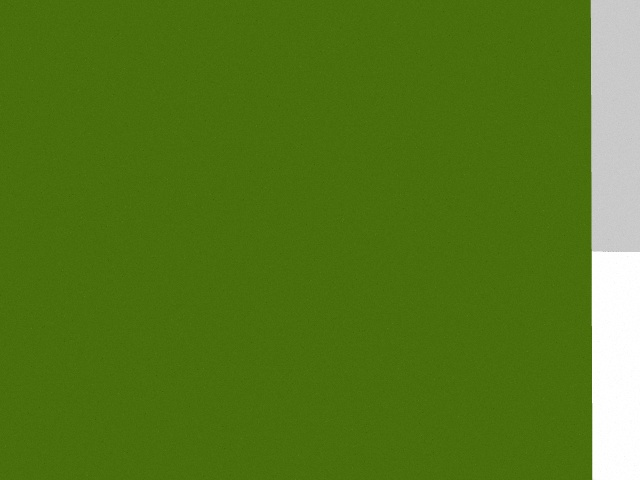green_drop_zone: (0, 0, 592, 480)
